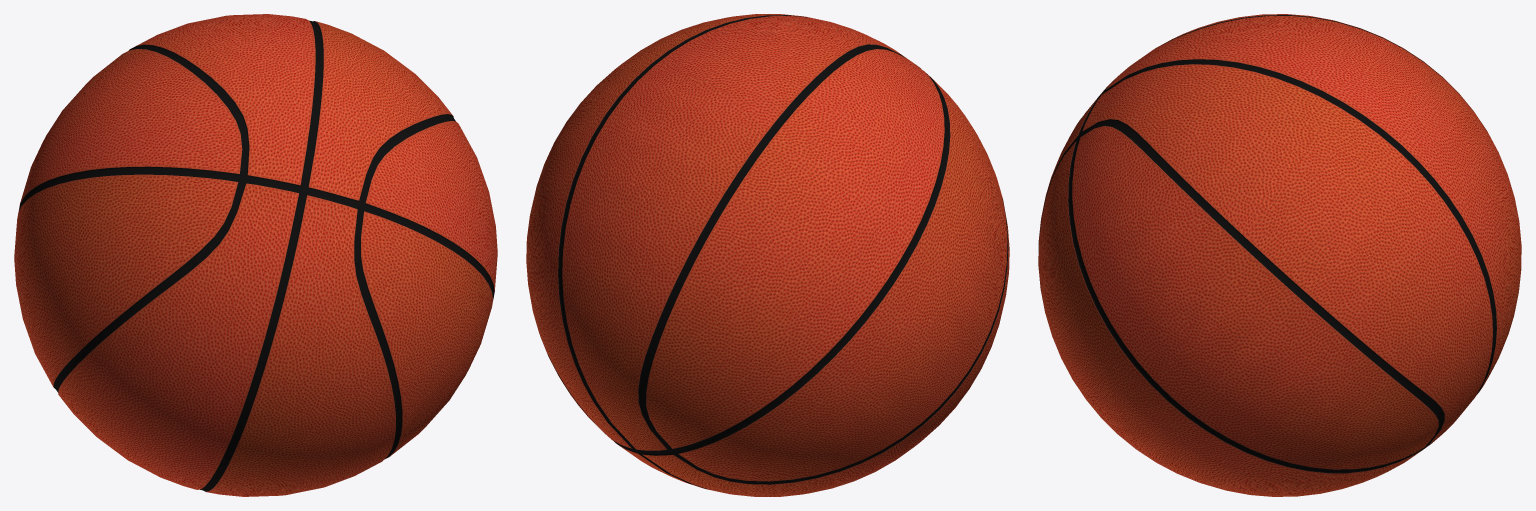
3 views of the same model, side by side, from view 1: azimuth 30°, elevation 25°; view 2: azimuth 150°, elevation 25°; view 3: azimuth 270°, elevation 25° (orthographic).
Visible parts, largest first — view 1: basket_ball; view 2: basket_ball; view 3: basket_ball.
Boxes of the visible parts, x1=… form: basket_ball: x1=14, y1=14, x2=497, y2=496; basket_ball: x1=526, y1=14, x2=1009, y2=496; basket_ball: x1=1038, y1=14, x2=1521, y2=496.
Bounding box in the file's own units: 96.29 × 96.58 × 96.48.
1 material, 1 textured.
